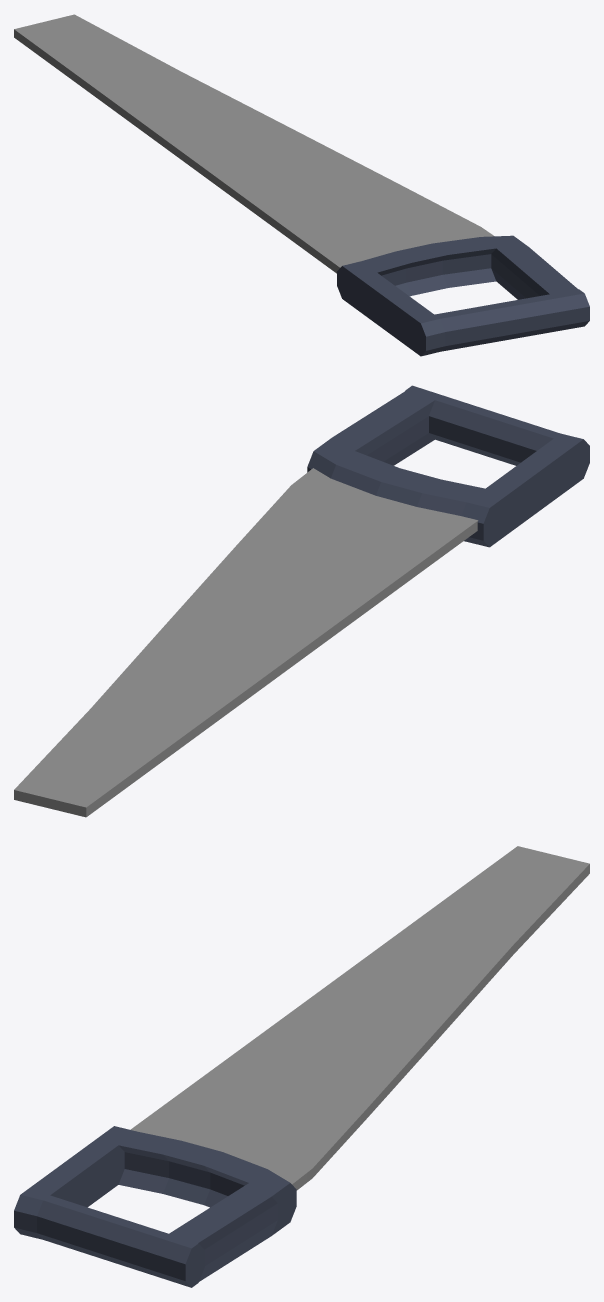
File: SM_saw.fbx
The picture shows the model from 3 angles, top to bottom: view 1: azimuth 30°, elevation 25°; view 2: azimuth 150°, elevation 25°; view 3: azimuth 330°, elevation 25°; orthographic projection. The views are drawn at different scales.
Parts seen in each view (by area): view 1: saw; view 2: saw; view 3: saw.
Boxes of the visible parts, left/top/right/bottom form: saw: left=14, top=14, right=589, bottom=356; saw: left=14, top=385, right=589, bottom=817; saw: left=14, top=846, right=589, bottom=1287.
Size of the model in its own units: 27.18 by 5.38 by 126.
